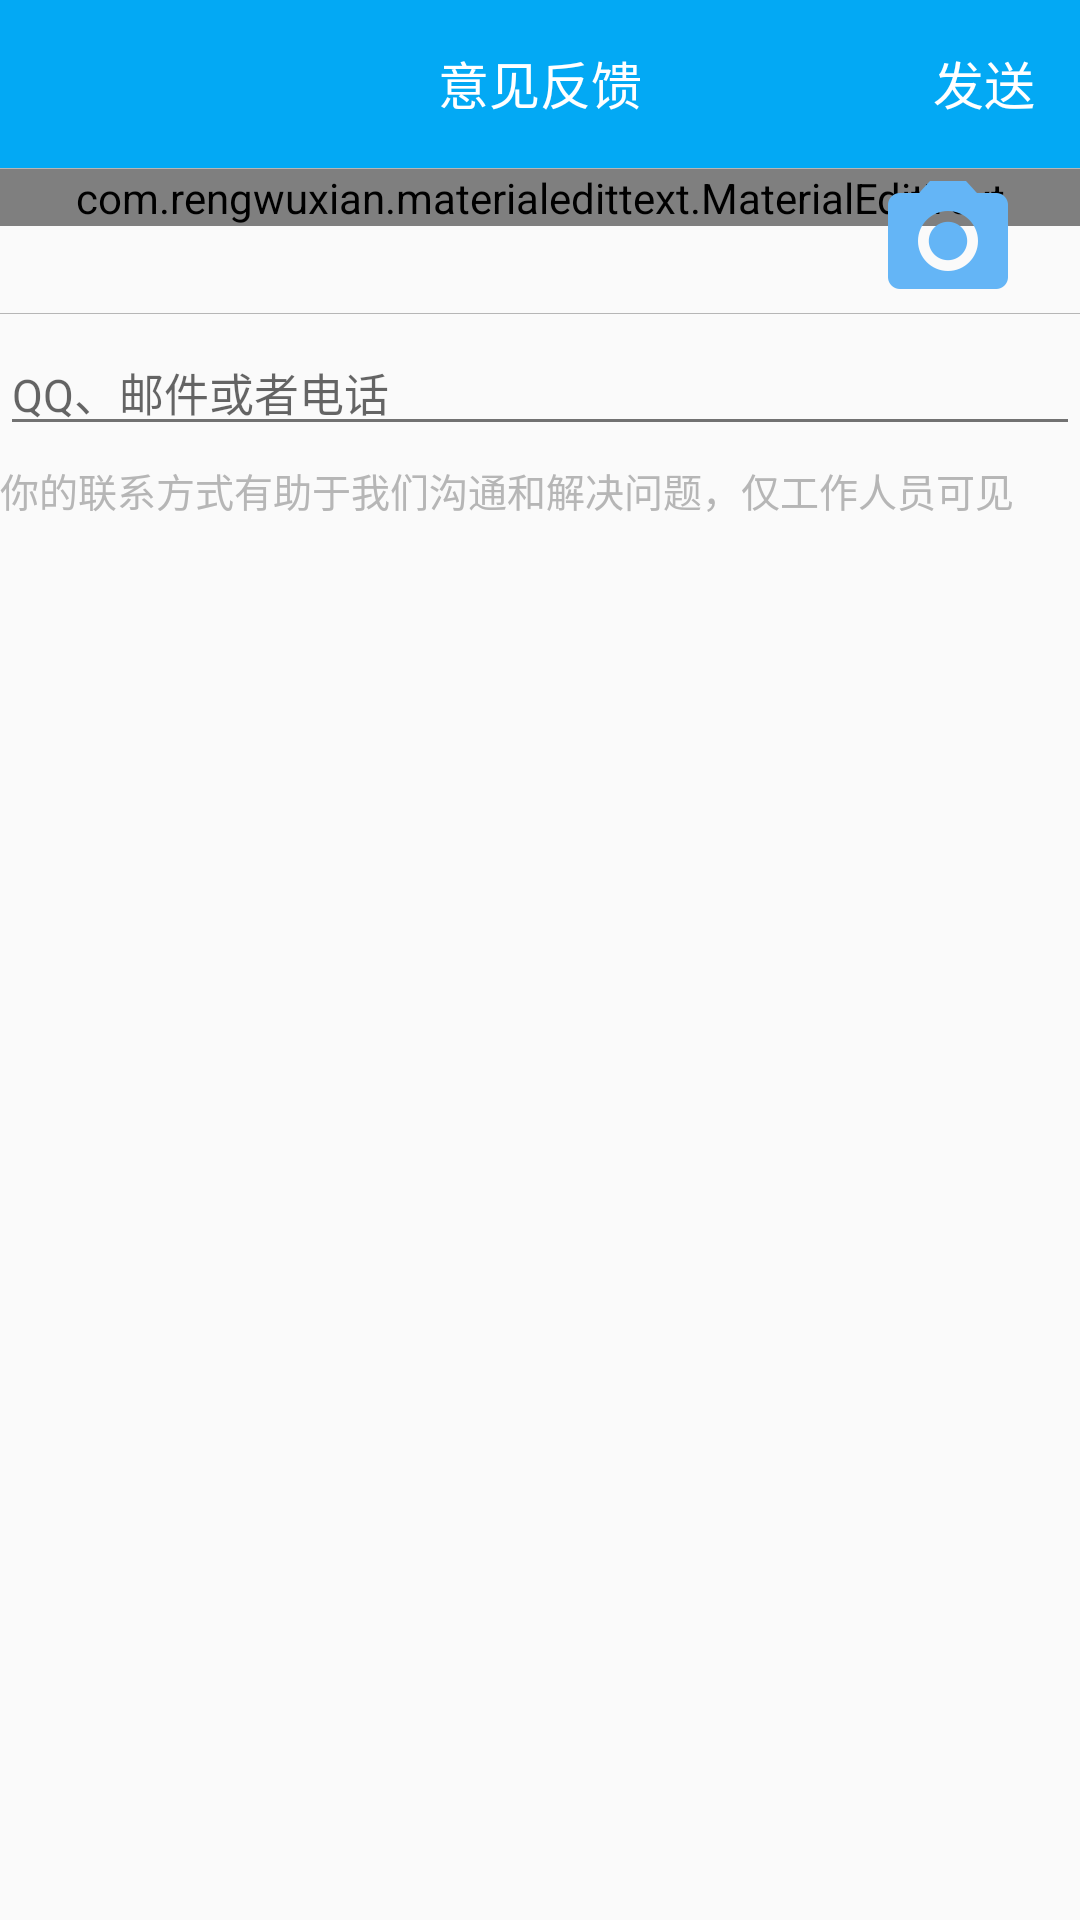

Point at icon controls on the screen. Image size 1080 x 1920, points as [x,y].
camera: [978,241]
